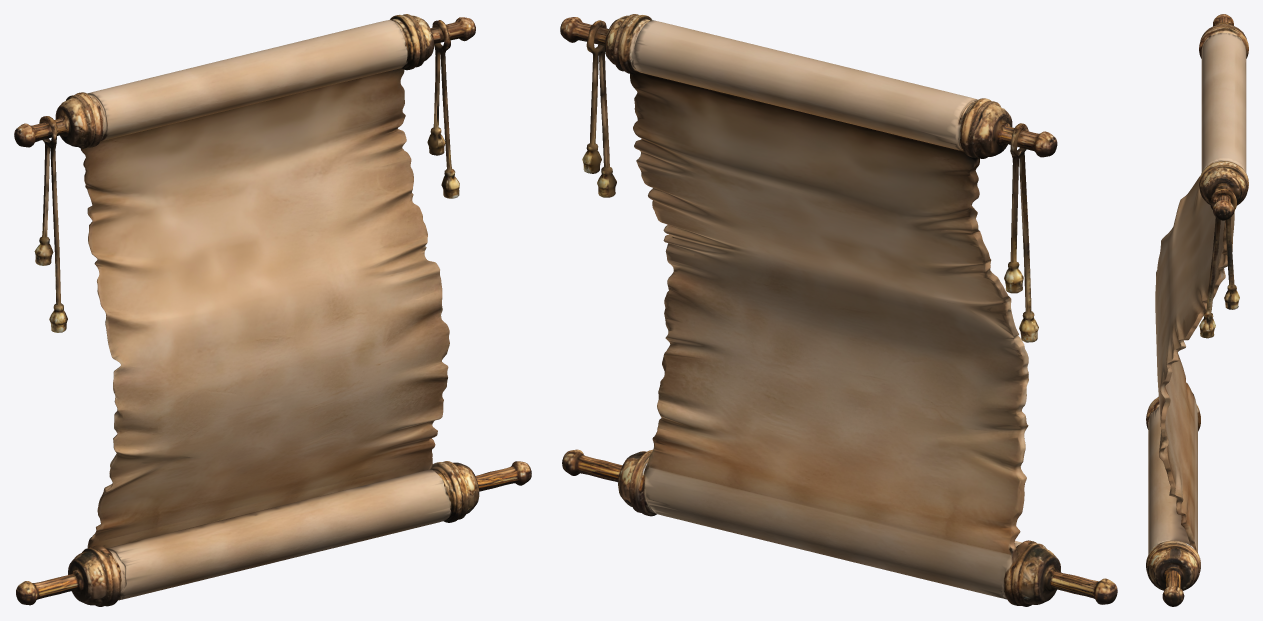
The model's file is pixellabs-scroll-3468.high.glb.
3 renders of one model, left to right at view 1: azimuth 30°, elevation 25°; view 2: azimuth 150°, elevation 25°; view 3: azimuth 270°, elevation 25°, orthographic. The views are drawn at different scales.
Visible parts, largest first — view 1: material; view 2: material; view 3: material.
Boxes of the visible parts, <box> form: material: <box>14,14,531,606</box>; material: <box>560,14,1117,606</box>; material: <box>1146,14,1248,606</box>.
Bounding box in the file's own units: 0.9252 × 0.8399 × 0.1853.
1 material, 1 textured.
